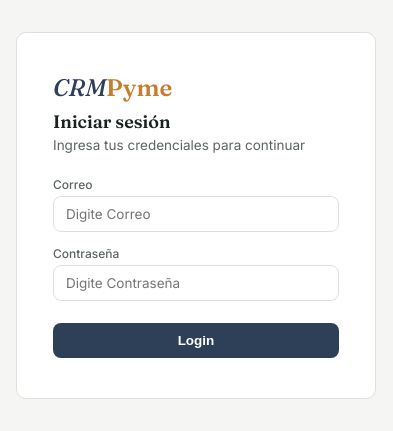
it: LoginPage — login fallido › CP-07: si no hay respuesta del servidor, muestra el mensaje genérico
Type "admin@crm.local" into the field labelled "Correo" at (196, 214), box [53,196,339,232]
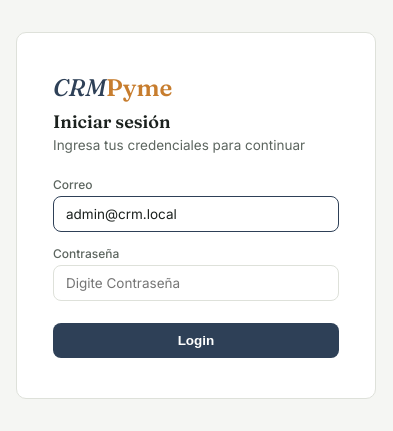
Type "Admin123*" into the password field labelled "Contraseña" at (196, 282), box [53,264,339,300]
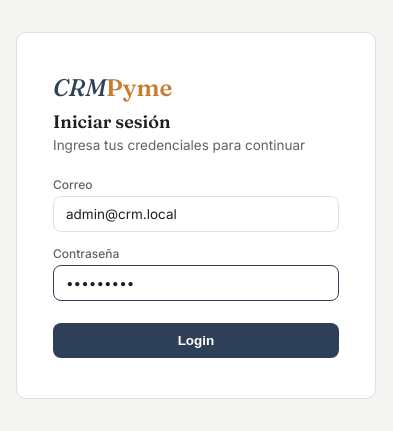
Click the button "Login" at (196, 340), box [53,322,339,358]
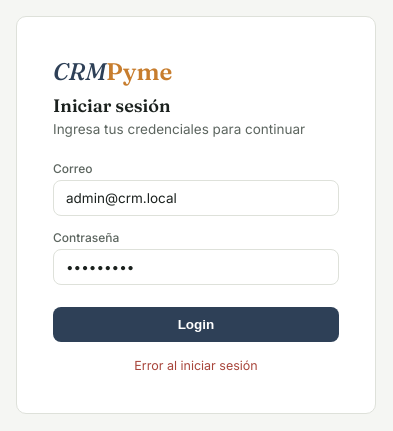
Check: the text "Error al iniciar sesión" is shown, box [134,358,258,373]
